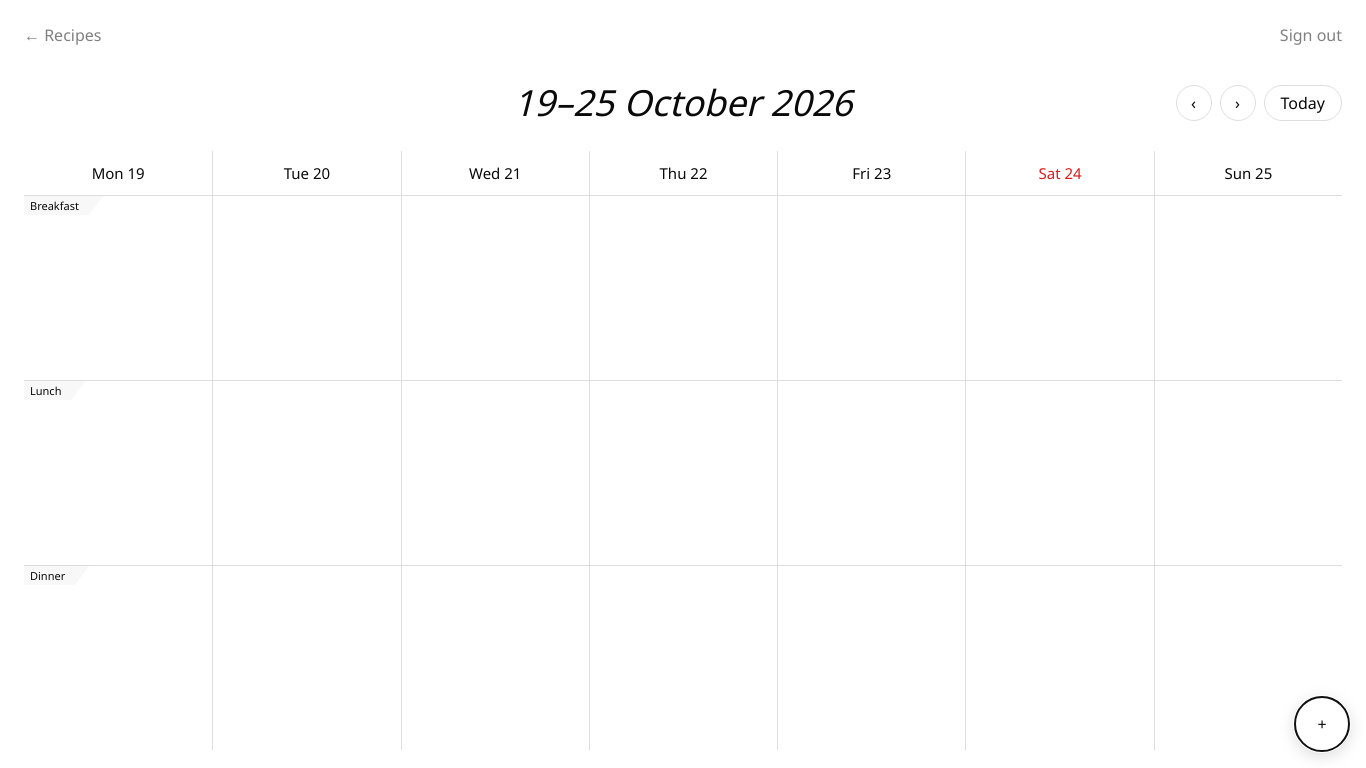
Test: planner › defaults Add meal to today and restores focus after Escape
Click the button named "Add meal". click: [1322, 724]
box: [1294, 696, 1350, 752]
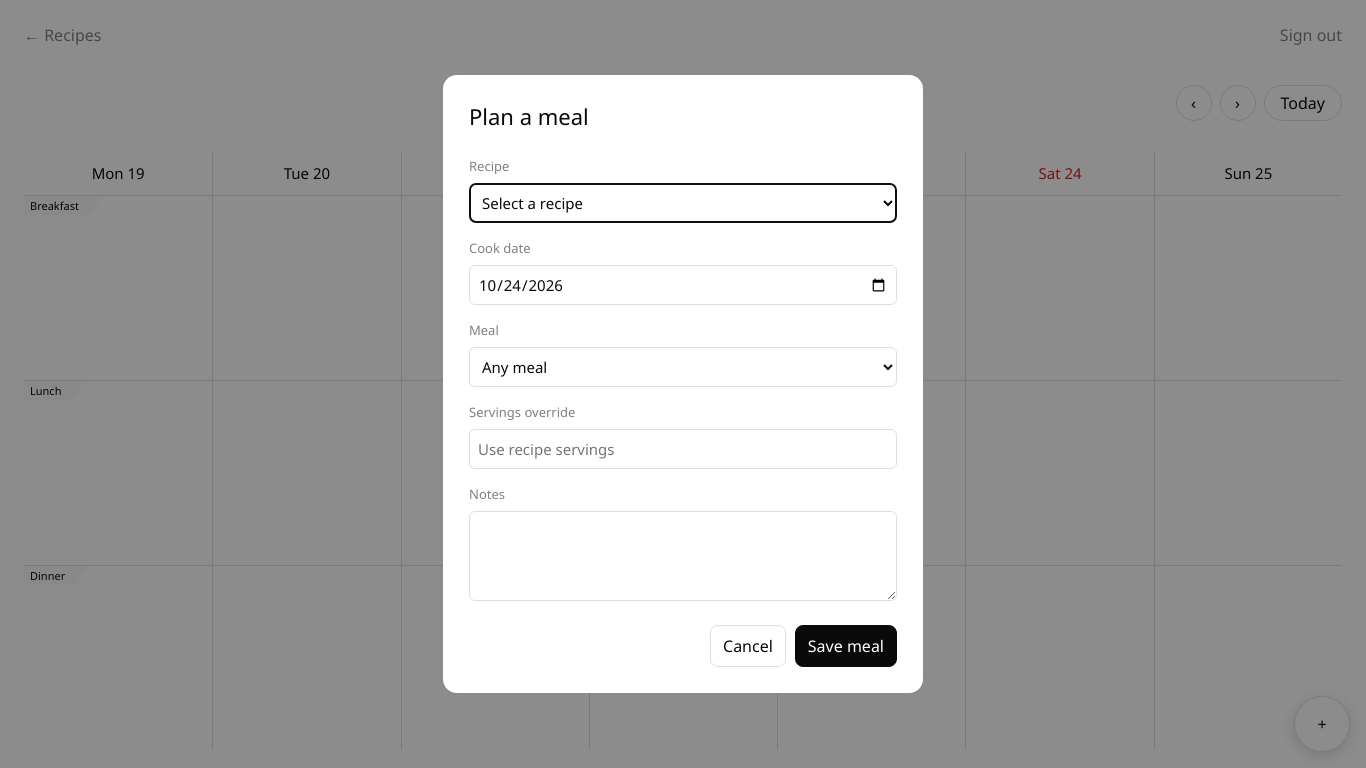
Select "Pasta" in the dropdown labelled "Recipe". click: [683, 203]
box: [469, 183, 897, 223]
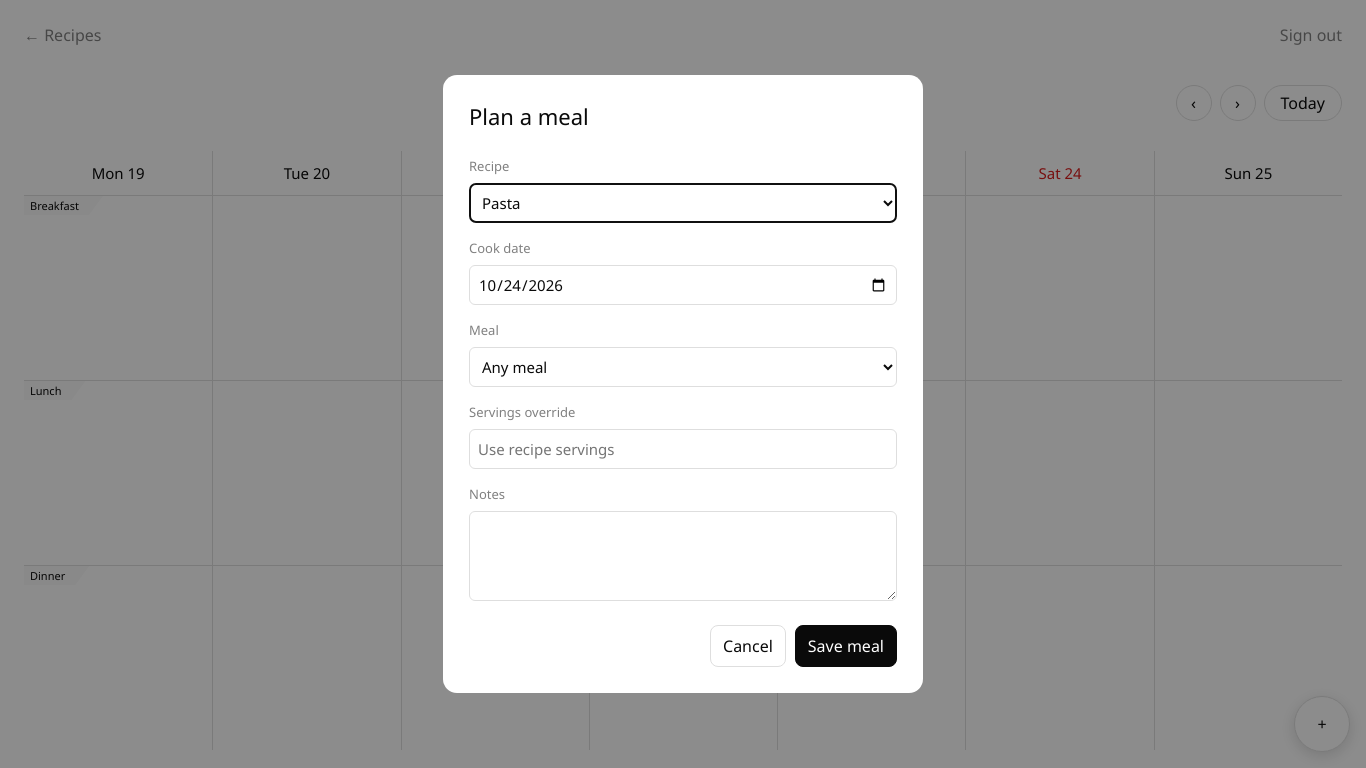
Press Tab in the dialog, box [443, 75, 923, 693]
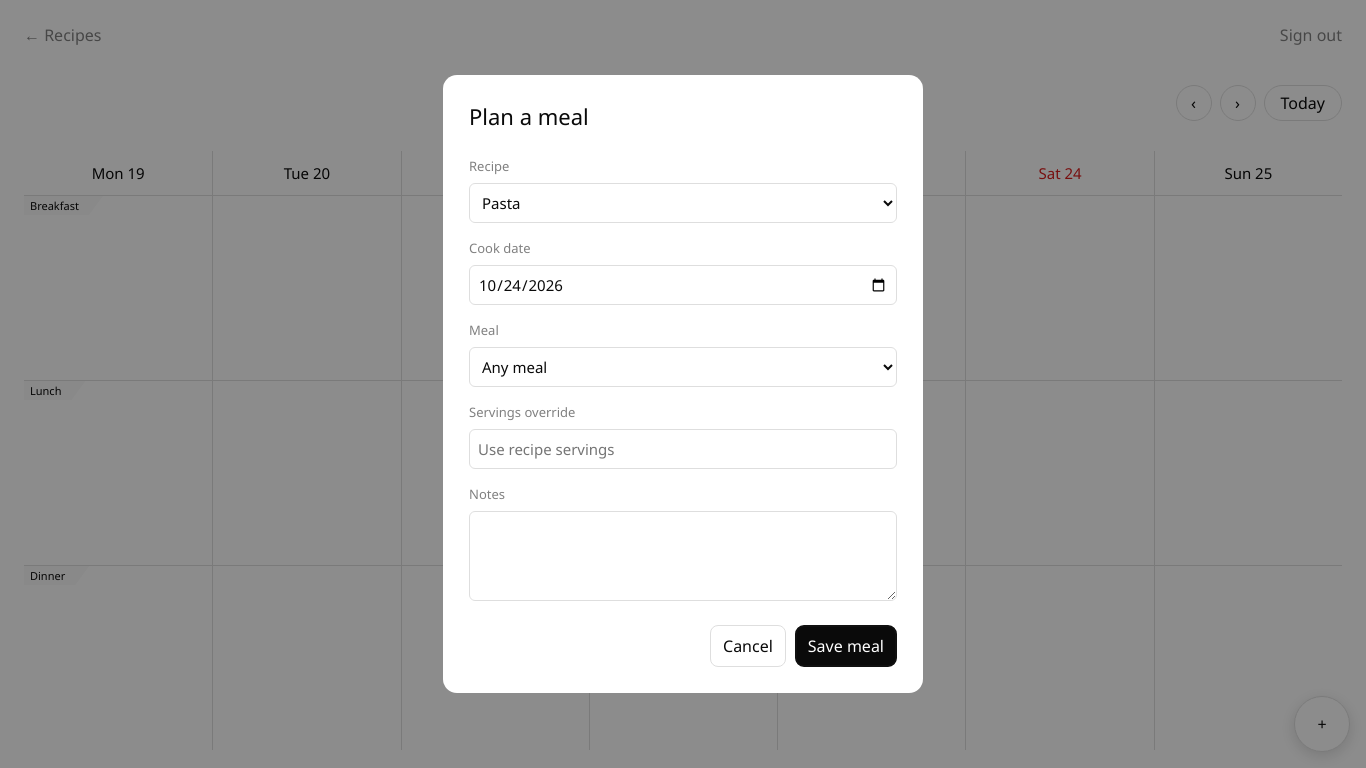
Press Escape in the dialog, box [443, 75, 923, 693]
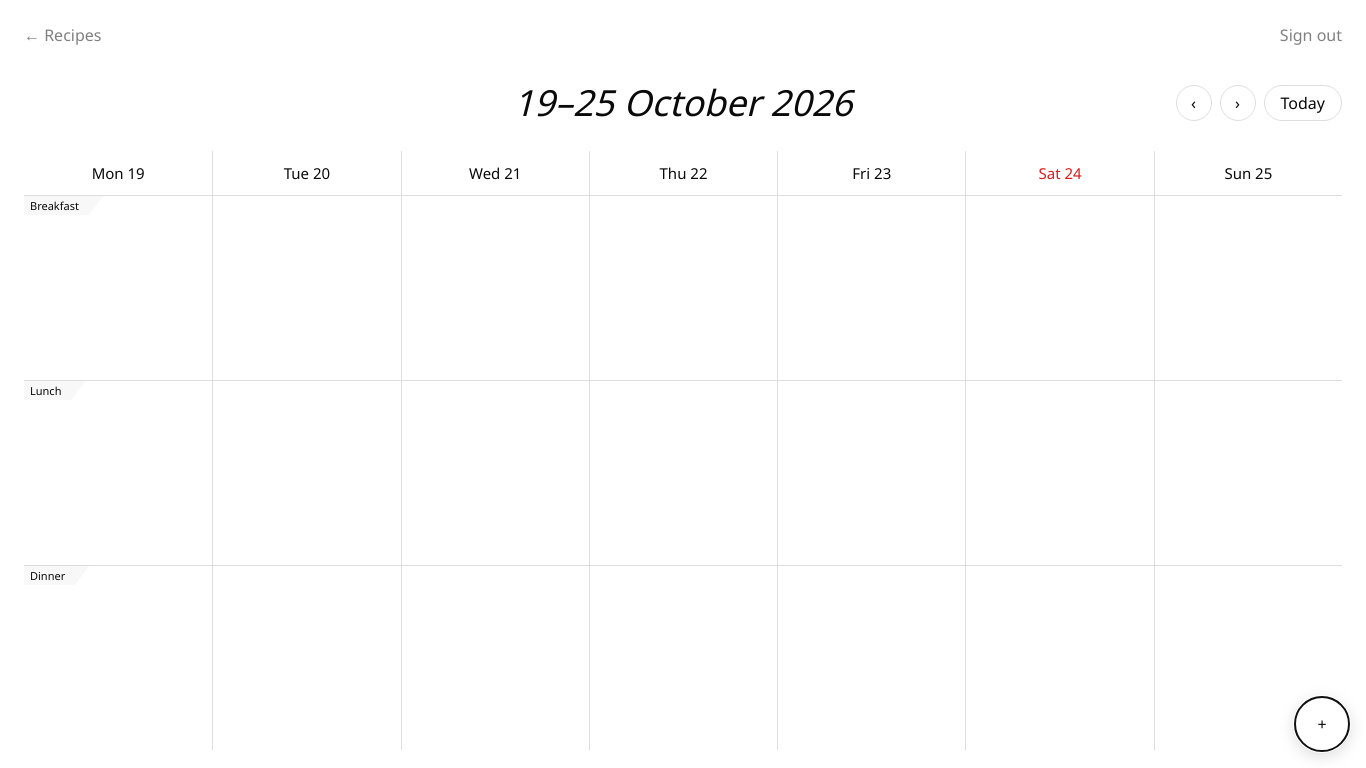
Expected: the dialog is gone
